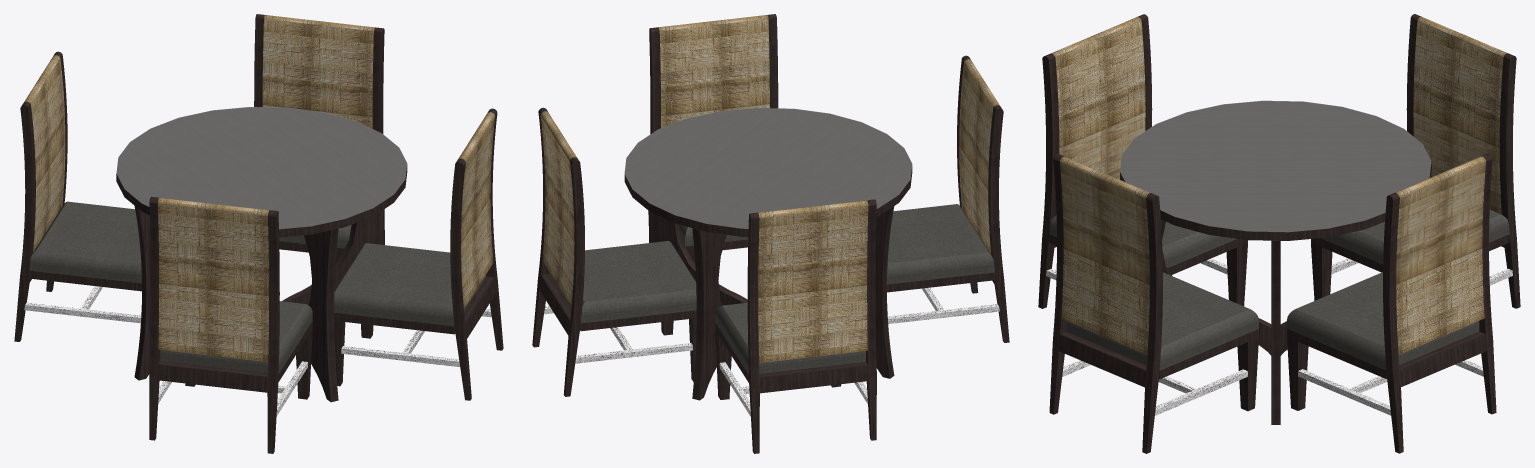
The model's file is dining furniture 7.dae.
3 renders of one model, left to right at view 1: azimuth 30°, elevation 25°; view 2: azimuth 150°, elevation 25°; view 3: azimuth 270°, elevation 25°, orthographic. The views are drawn at different scales.
Visible parts, largest first — view 1: group_10, group_0, group_14 (×2), Component_3 (×3), group_1 (×2), group_11 (×2), group_4 (×2), group_9, group_17, group_13, group_7, group_12 (+4 smaller); view 2: group_10, group_0, group_4 (×2), Component_3 (×3), group_11 (×2), group_1 (×2), group_14 (×2), group_8, group_17, group_3, group_7, group_2 (+4 smaller); view 3: group_10, group_0, group_11 (×2), group_1 (×2), Component_3 (×4), group_4 (×2), group_14 (×2), group_3, group_13, group_7, group_16, group_6 (+3 smaller).
Boxes of the visible parts, bbox=[...] form: group_10: bbox=[116, 107, 407, 237]; group_0: bbox=[116, 107, 407, 229]; group_14 (×2): bbox=[149, 196, 279, 453]; Component_3 (×3): bbox=[29, 201, 486, 373]; group_1 (×2): bbox=[254, 14, 384, 244]; group_11 (×2): bbox=[450, 108, 503, 400]; group_4 (×2): bbox=[14, 51, 67, 341]; group_9: bbox=[304, 228, 338, 402]; group_17: bbox=[134, 206, 150, 380]; group_13: bbox=[334, 313, 455, 386]; group_7: bbox=[282, 210, 383, 304]; group_12: bbox=[341, 309, 491, 366]; group_10: bbox=[624, 108, 912, 236]; group_0: bbox=[624, 108, 912, 228]; group_4 (×2): bbox=[747, 199, 876, 453]; Component_3 (×3): bbox=[549, 204, 994, 374]; group_11 (×2): bbox=[649, 14, 778, 134]; group_1 (×2): bbox=[532, 107, 584, 396]; group_14 (×2): bbox=[957, 55, 1009, 342]; group_8: bbox=[692, 228, 726, 400]; group_17: bbox=[875, 206, 894, 378]; group_3: bbox=[580, 310, 696, 381]; group_7: bbox=[648, 211, 747, 305]; group_2: bbox=[544, 306, 692, 363]; group_10: bbox=[1120, 101, 1431, 240]; group_0: bbox=[1120, 100, 1431, 232]; group_11 (×2): bbox=[1049, 153, 1162, 453]; group_1 (×2): bbox=[1383, 153, 1496, 453]; Component_3 (×4): bbox=[1049, 210, 1509, 370]; group_4 (×2): bbox=[1406, 14, 1520, 308]; group_14 (×2): bbox=[1038, 14, 1152, 308]; group_3: bbox=[1287, 329, 1386, 410]; group_13: bbox=[1159, 329, 1258, 411]; group_7: bbox=[1271, 240, 1280, 424]; group_16: bbox=[1049, 234, 1247, 306]; group_6: bbox=[1311, 234, 1509, 300].
Bounding box in the file's own units: 56.03 × 60.76 × 35.55.
6 materials, 4 textured.
